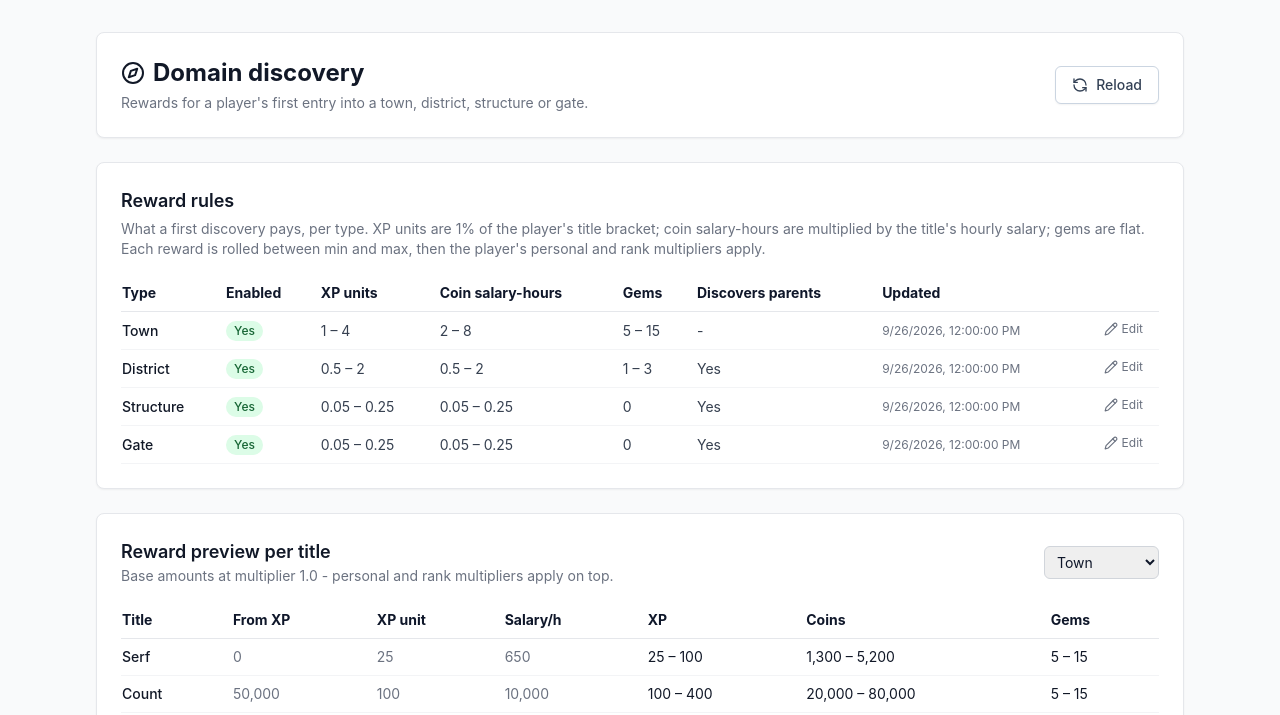
it: DiscoveryAdminPage › turning a type with subtypes on or off › saves Structure and then the Gate rule with only Enabled changed
Expected: the text "Serf" is shown, [121, 638, 232, 676]
Click the button with aria-label "Edit Structure rule": coordinates (1123, 404) [1104, 396, 1143, 412]
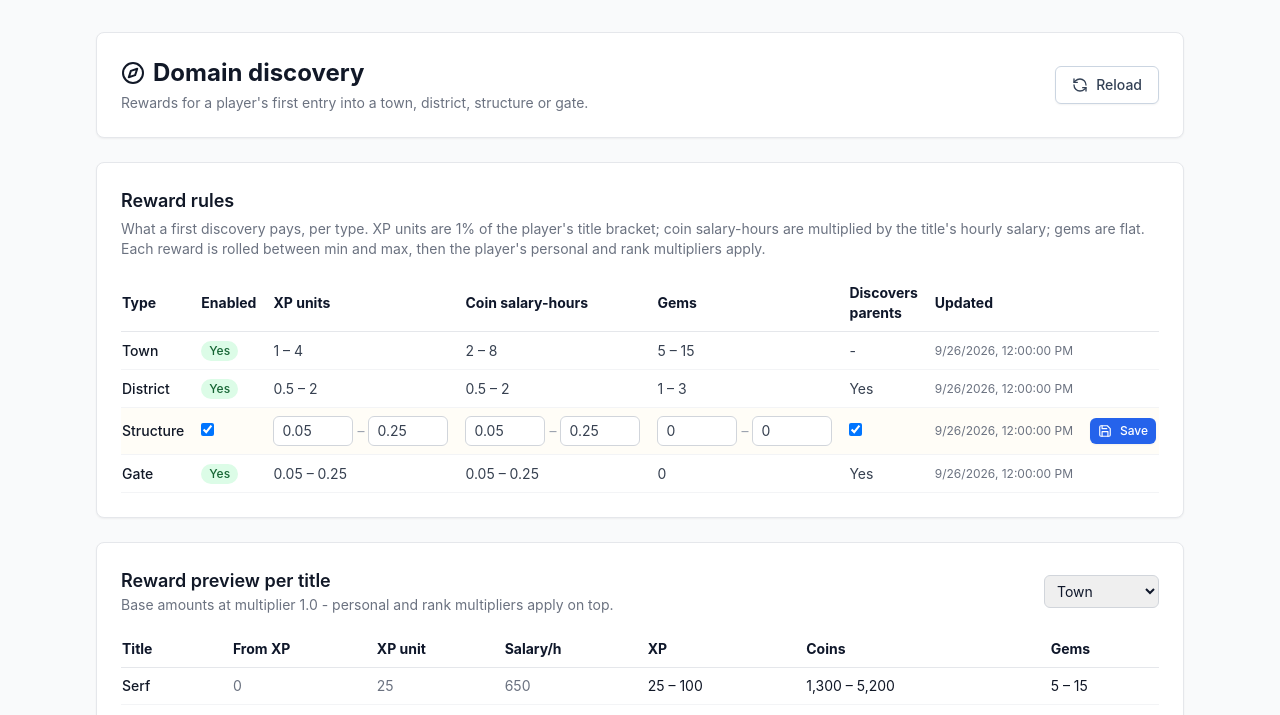
Click the checkbox named "Structure enabled": coordinates (208, 430) [201, 423, 214, 436]
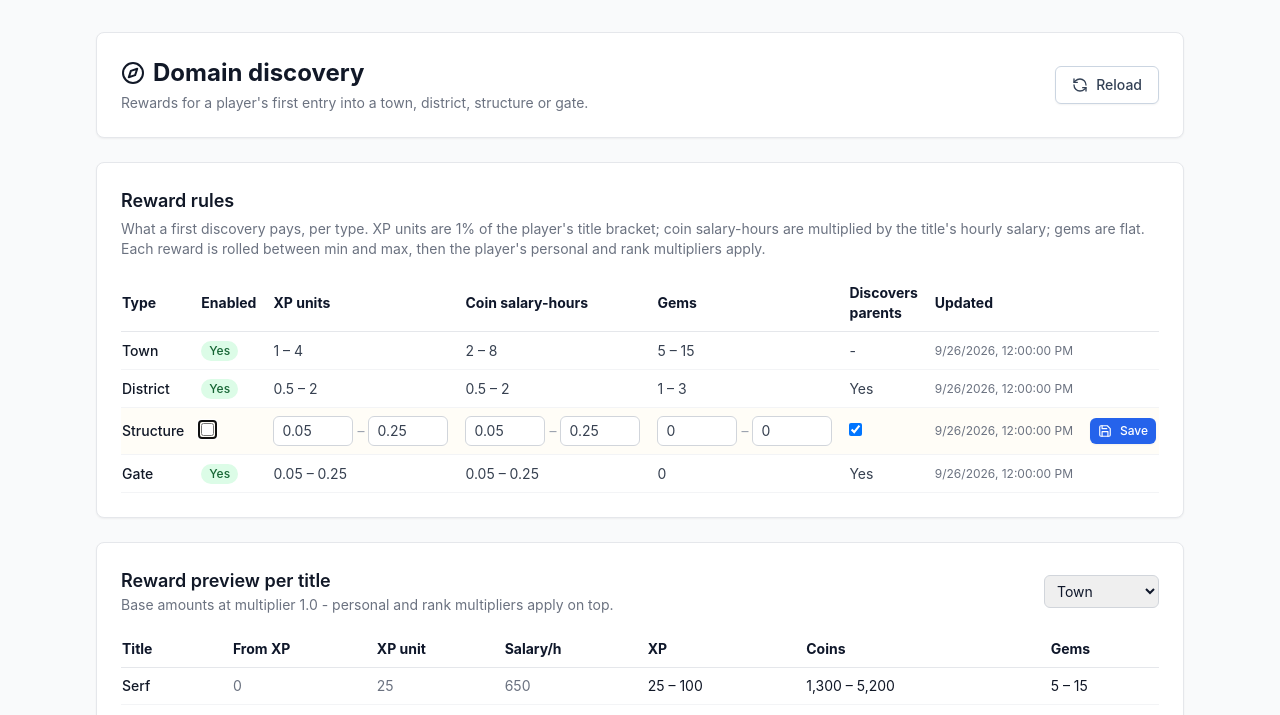
Click the button "Save": coordinates (1123, 431) [1090, 418, 1156, 444]
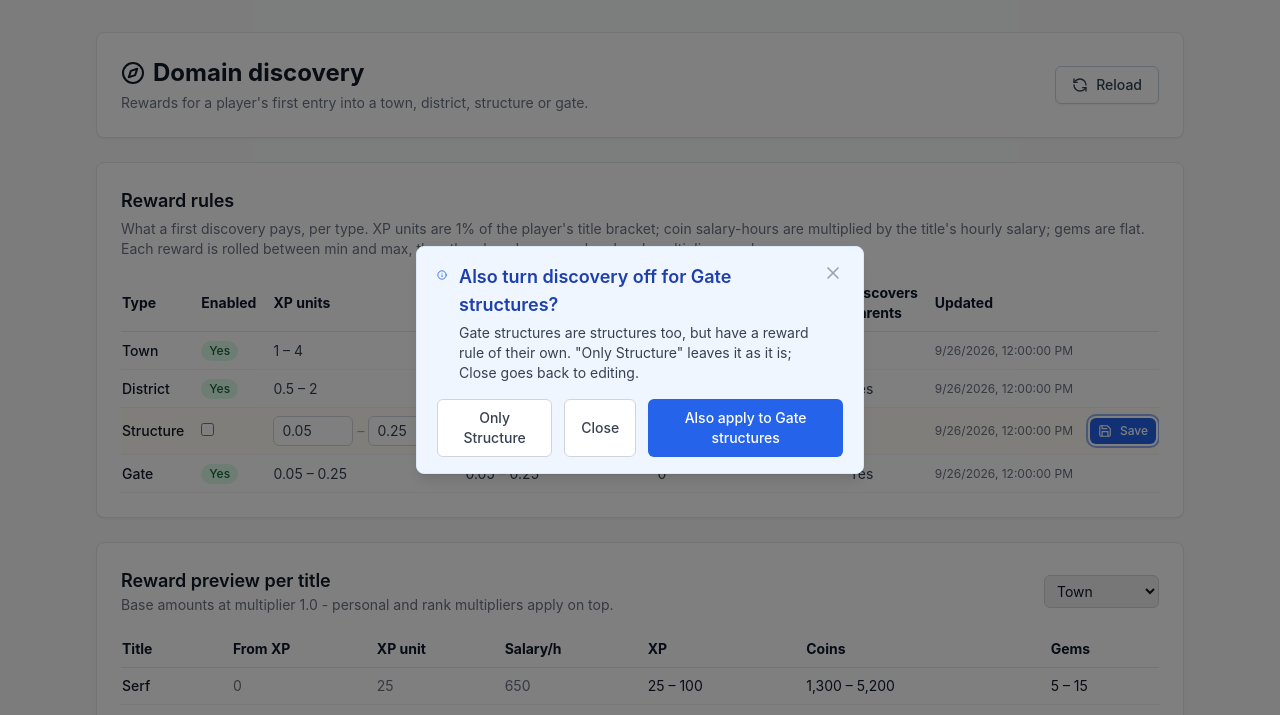
Click the button "Also apply to Gate structures": coordinates (746, 428) [648, 399, 843, 457]
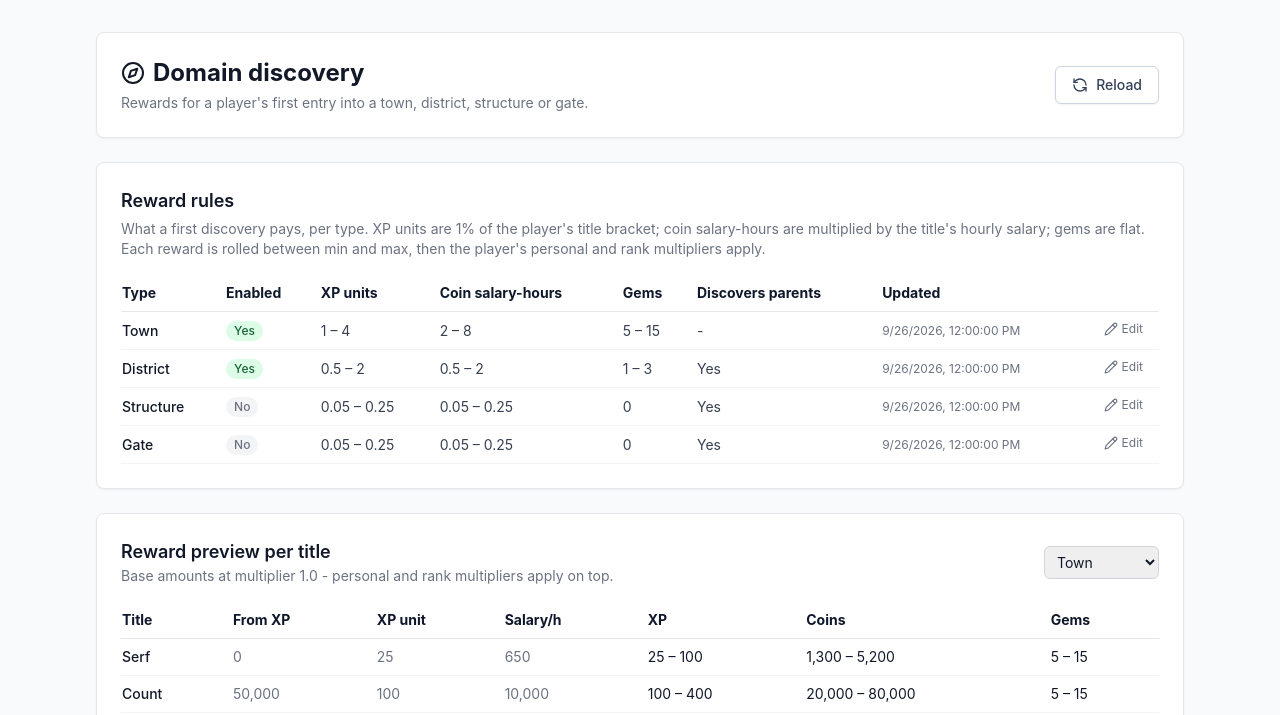
Now the 2nd text "No" is shown, box [226, 435, 258, 455]
Now the 1st text "No" is shown, box [226, 397, 258, 417]
Now the dialog is gone
